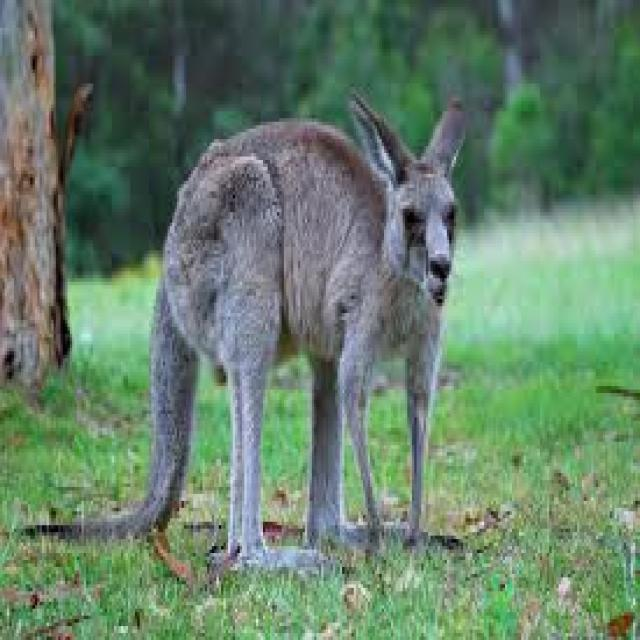Kangaroo: (27, 92, 468, 575)
